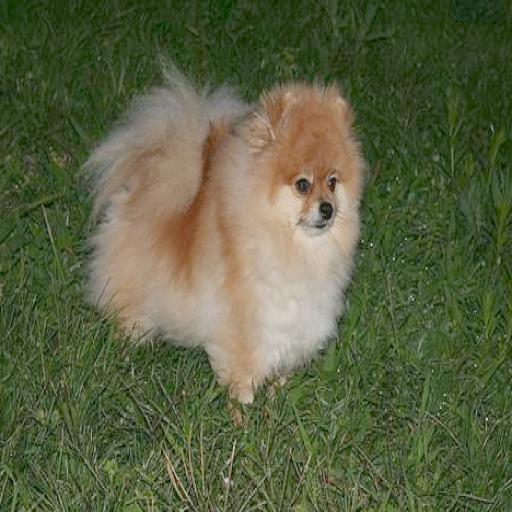dog_face: (260, 89, 360, 244)
